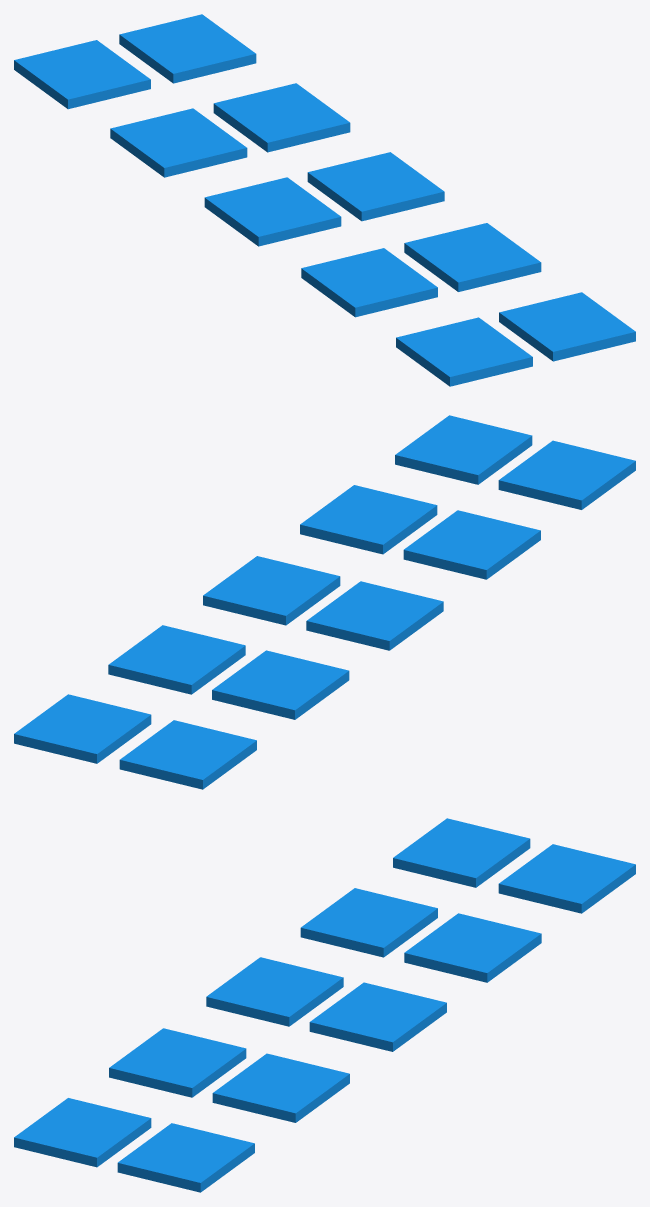
The model's file is platforms.gltf.
3 renders of one model, top to bottom at view 1: azimuth 30°, elevation 25°; view 2: azimuth 150°, elevation 25°; view 3: azimuth 330°, elevation 25°, orthographic.
Visible parts, largest first — view 1: pad22, pad02, pad12, pad11, pad21, pad32, pad41, pad42, pad31, pad01; view 2: pad12, pad21, pad22, pad31, pad32, pad01, pad02, pad41, pad42, pad11; view 3: pad12, pad21, pad22, pad31, pad32, pad01, pad02, pad41, pad42, pad11.
Boxes of the visible parts, x1,y1,x2,y2 form: pad22: [307, 152, 444, 221]; pad02: [119, 14, 256, 83]; pad12: [213, 83, 350, 152]; pad11: [110, 108, 247, 177]; pad21: [204, 177, 341, 246]; pad32: [404, 223, 541, 291]; pad41: [396, 317, 532, 386]; pad42: [499, 292, 635, 361]; pad31: [301, 248, 437, 317]; pad01: [14, 40, 150, 109]; pad12: [108, 625, 245, 694]; pad21: [306, 581, 443, 650]; pad22: [203, 556, 340, 625]; pad31: [403, 510, 540, 579]; pad32: [300, 485, 437, 554]; pad01: [119, 720, 256, 789]; pad02: [14, 694, 151, 763]; pad41: [498, 440, 635, 509]; pad42: [395, 415, 532, 484]; pad11: [212, 650, 349, 719]; pad12: [404, 913, 541, 982]; pad21: [206, 957, 343, 1026]; pad22: [309, 982, 446, 1051]; pad31: [109, 1028, 246, 1097]; pad32: [212, 1053, 349, 1122]; pad01: [393, 818, 530, 887]; pad02: [498, 844, 635, 913]; pad41: [14, 1098, 151, 1167]; pad42: [117, 1123, 254, 1192]; pad11: [300, 888, 437, 957].
Size of the model in its own units: 13.99 by 0.6858 by 55.86.
Materials: 9 (9 with a texture image).
